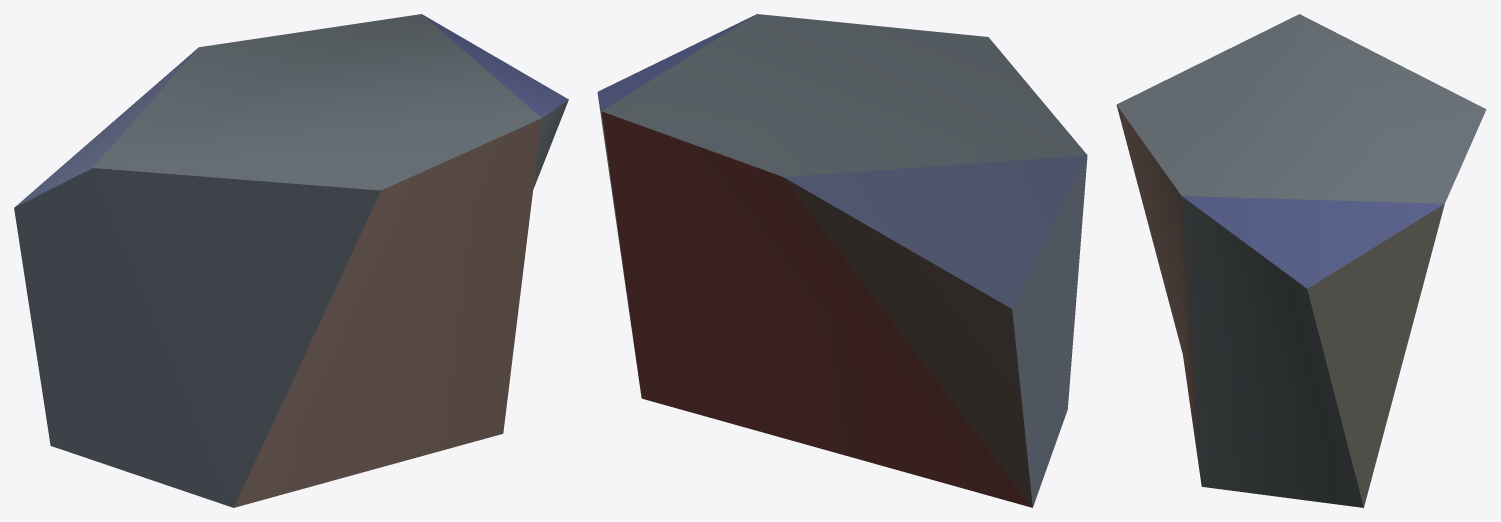
File: boulder-skinny.fbx
3 renders of one model, left to right at view 1: azimuth 30°, elevation 25°; view 2: azimuth 150°, elevation 25°; view 3: azimuth 270°, elevation 25°, orthographic. The views are drawn at different scales.
Visible parts, largest first — view 1: Mesh; view 2: Mesh; view 3: Mesh.
Part boxes in pixels (x1,y1,x2,y2): Mesh: (14, 14, 568, 507); Mesh: (597, 14, 1087, 507); Mesh: (1116, 14, 1486, 507).
Bounding box in the file's own units: 1369 × 858 × 946.
